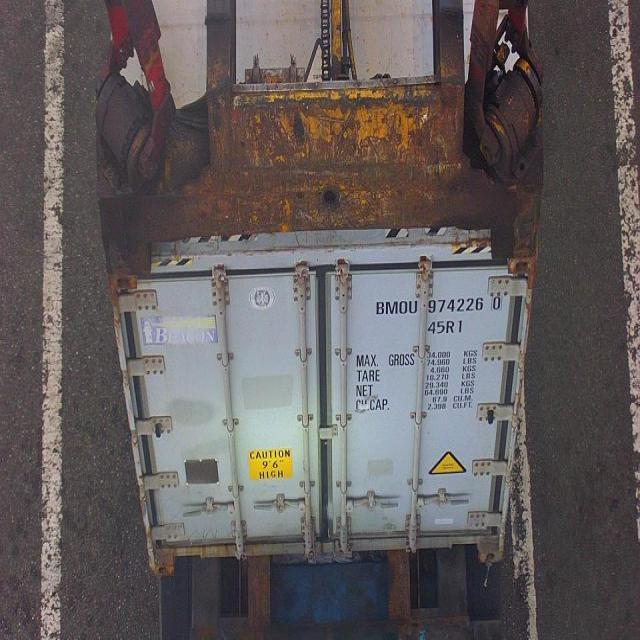ISO: (430, 316, 462, 336)
container_number: (375, 296, 504, 315)
